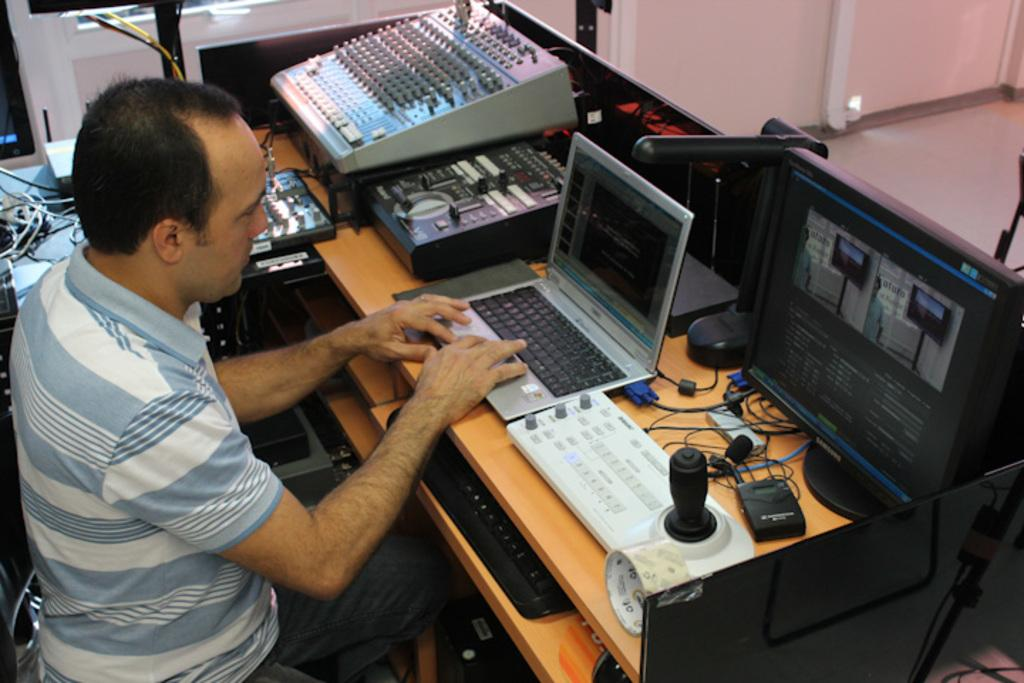Computer-keyboard: (387, 400, 576, 622), (464, 282, 627, 397)
